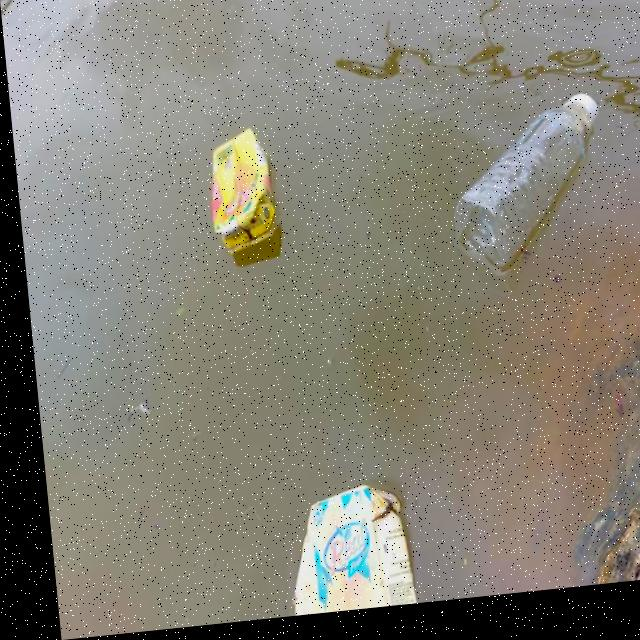paper: (270, 483, 421, 621), (185, 123, 298, 296)
waterbottle: (427, 91, 620, 292)
